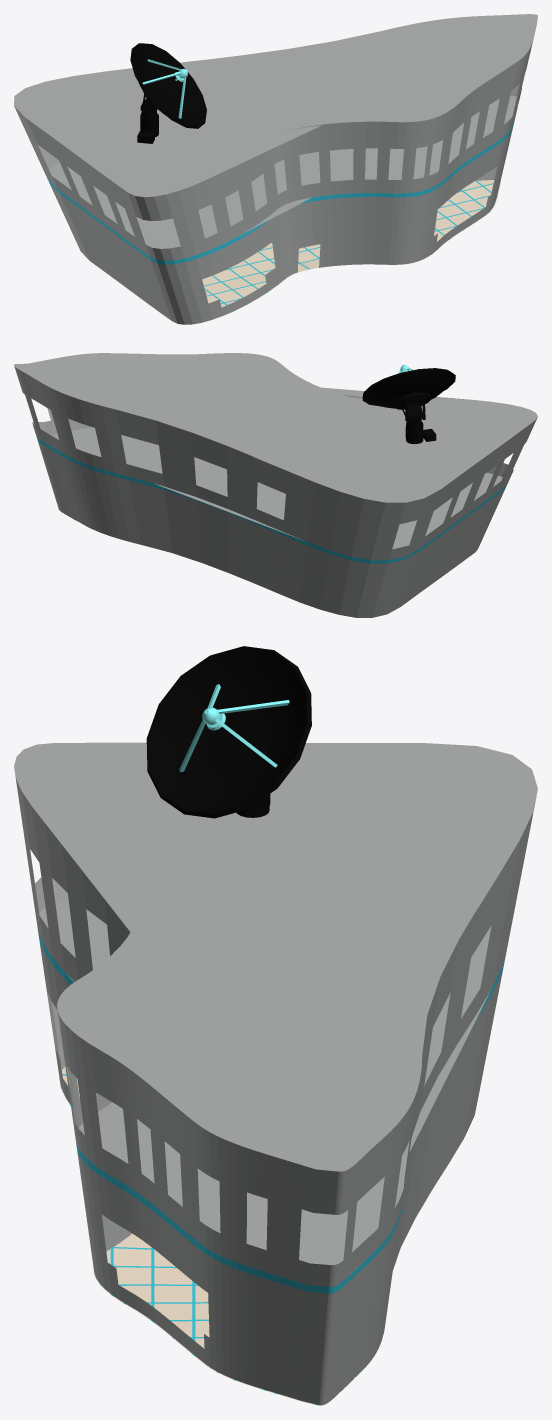
File: baseLunar (1).fbx
3 views of the same model, one above another, from view 1: azimuth 30°, elevation 25°; view 2: azimuth 150°, elevation 25°; view 3: azimuth 270°, elevation 25° (orthographic). The views are drawn at different scales.
Parts seen in each view (by area): view 1: casa, suelo, satelite; view 2: casa, satelite; view 3: casa, satelite, suelo.
Part boxes in pixels (left/top/right/bottom): casa: left=14, top=14, right=537, bottom=324; suelo: left=202, top=180, right=500, bottom=319; satelite: left=130, top=43, right=206, bottom=143; casa: left=14, top=353, right=537, bottom=617; satelite: left=362, top=364, right=455, bottom=444; casa: left=14, top=742, right=537, bottom=1405; satelite: left=146, top=646, right=311, bottom=818; suelo: left=59, top=1066, right=367, bottom=1405.
Size of the model in its own units: 24834 by 11425 by 12819.
